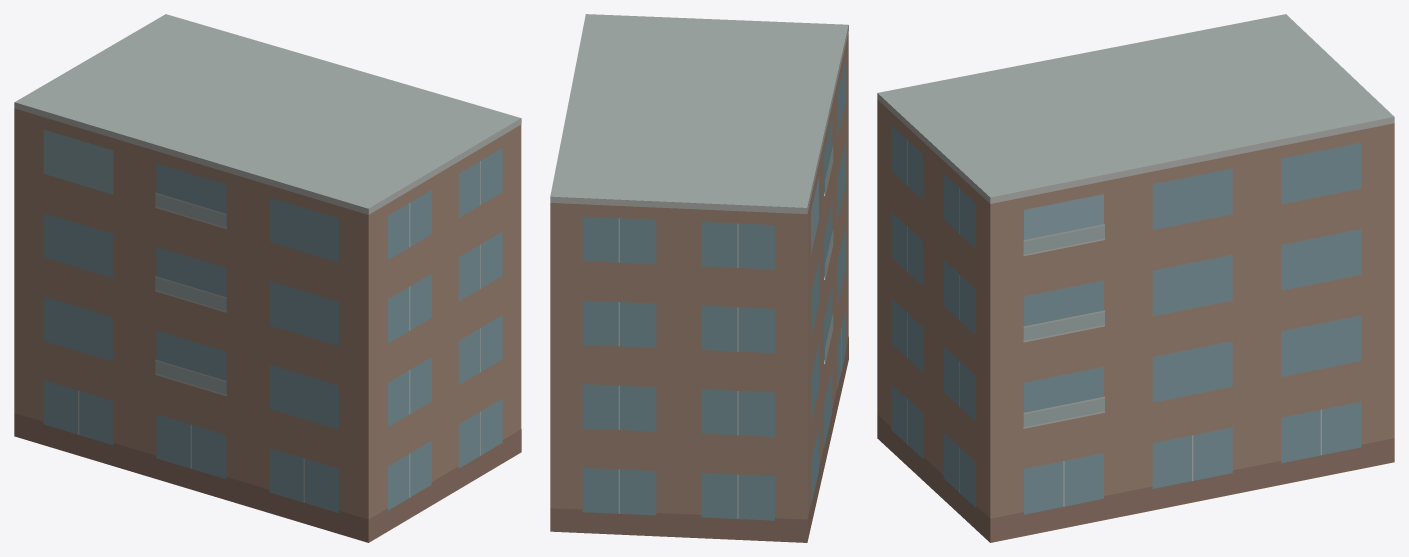
File: survey-upis-32723274.glb
3 views of the same model, side by side, from view 1: azimuth 30°, elevation 25°; view 2: azimuth 150°, elevation 25°; view 3: azimuth 270°, elevation 25° (orthographic). The views are drawn at different scales.
Visible parts, largest first — view 1: survey-upis-32723274.tmp; view 2: survey-upis-32723274.tmp; view 3: survey-upis-32723274.tmp.
Part boxes in pixels (x1,y1,x2,y2): survey-upis-32723274.tmp: (14, 14, 521, 542); survey-upis-32723274.tmp: (550, 14, 848, 542); survey-upis-32723274.tmp: (877, 14, 1394, 542).
Bounding box in the file's own units: 15.06 × 13.2 × 17.93.
